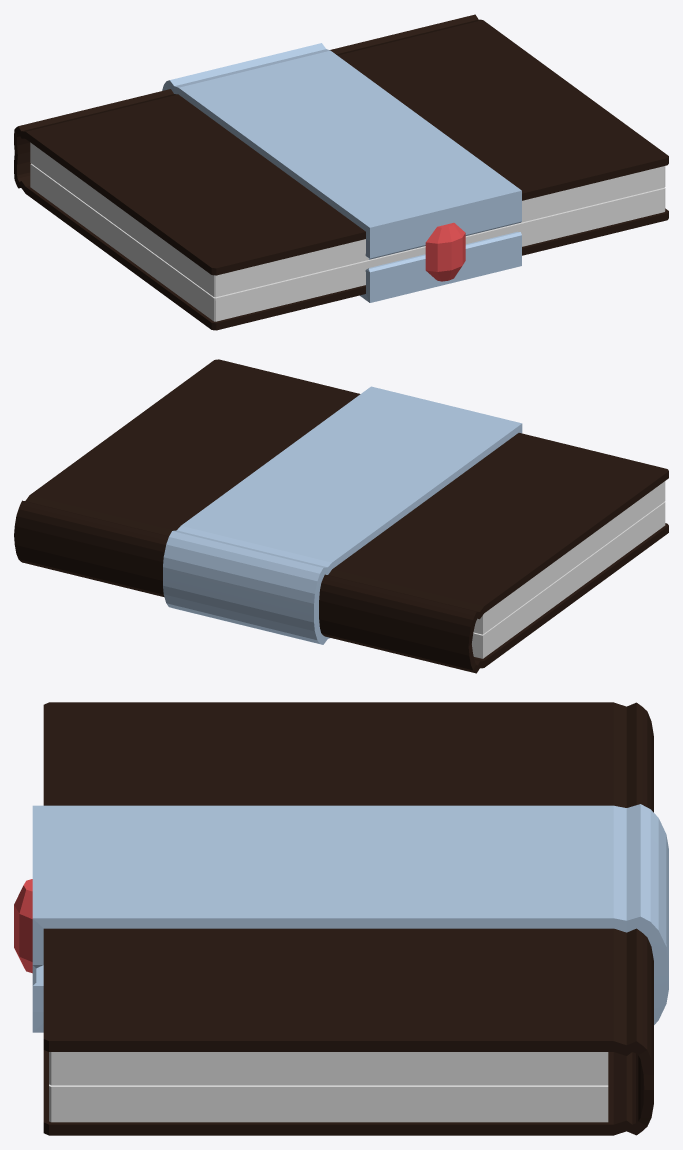
The model's file is LivroP.fbx.
3 renders of one model, top to bottom at view 1: azimuth 30°, elevation 25°; view 2: azimuth 150°, elevation 25°; view 3: azimuth 270°, elevation 25°, orthographic. The views are drawn at different scales.
Parts seen in each view (by area): view 1: LivroPuzzle; view 2: LivroPuzzle; view 3: LivroPuzzle.
Part boxes in pixels (box(x1,y1,x2,y2)): LivroPuzzle: box(14, 14, 668, 330); LivroPuzzle: box(14, 359, 668, 673); LivroPuzzle: box(14, 702, 668, 1135).
Size of the model in its own units: 25.78 by 4.16 by 20.94.
